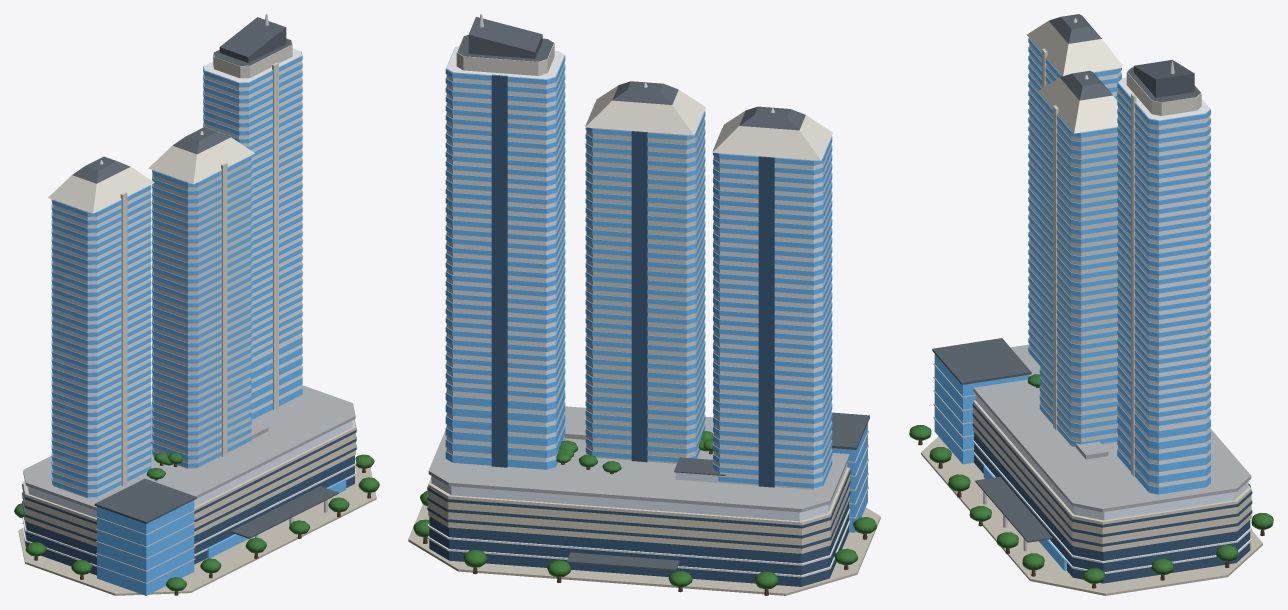
Rendered from sangbong-emco.glb.
3 views of the same model, side by side, from view 1: azimuth 30°, elevation 25°; view 2: azimuth 150°, elevation 25°; view 3: azimuth 270°, elevation 25° (orthographic). The views are drawn at different scales.
Bounding box in the file's own units: 154 × 185 × 123.
